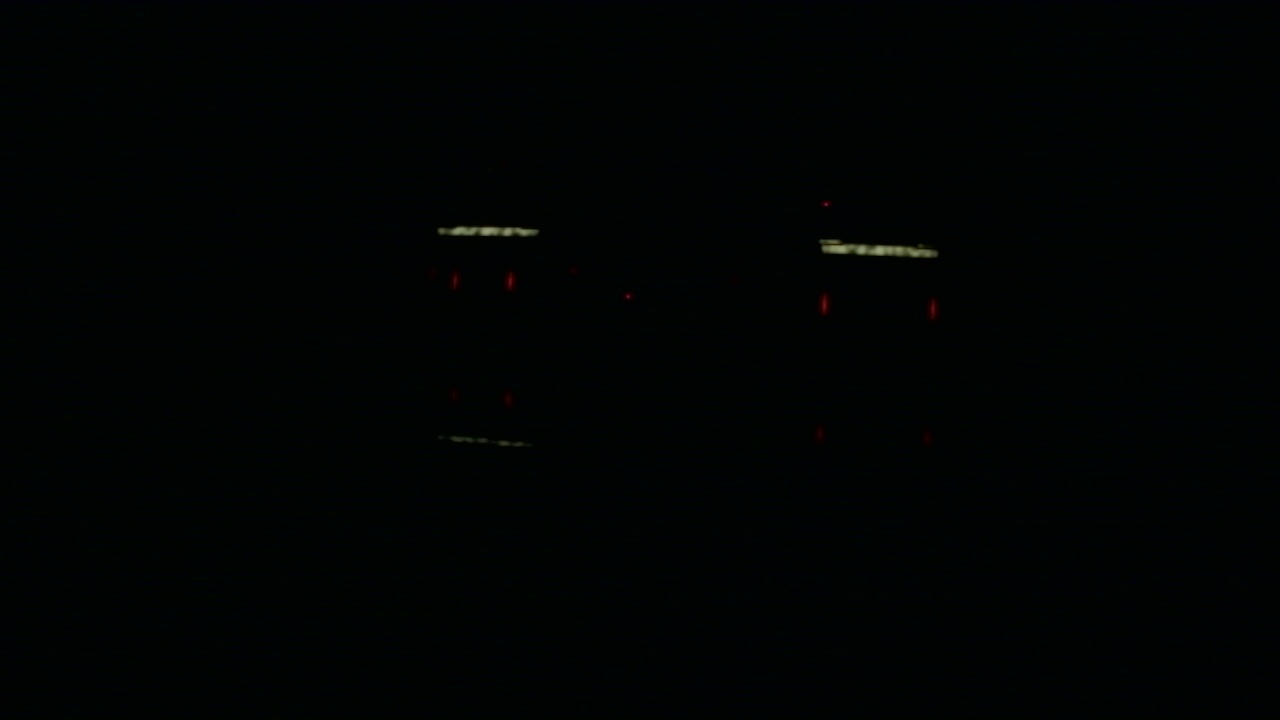lamp: (925, 289, 937, 322), (817, 289, 829, 319), (509, 271, 515, 288), (452, 272, 458, 288)
pair1: (454, 274, 513, 287)
pair2: (817, 291, 938, 322)
